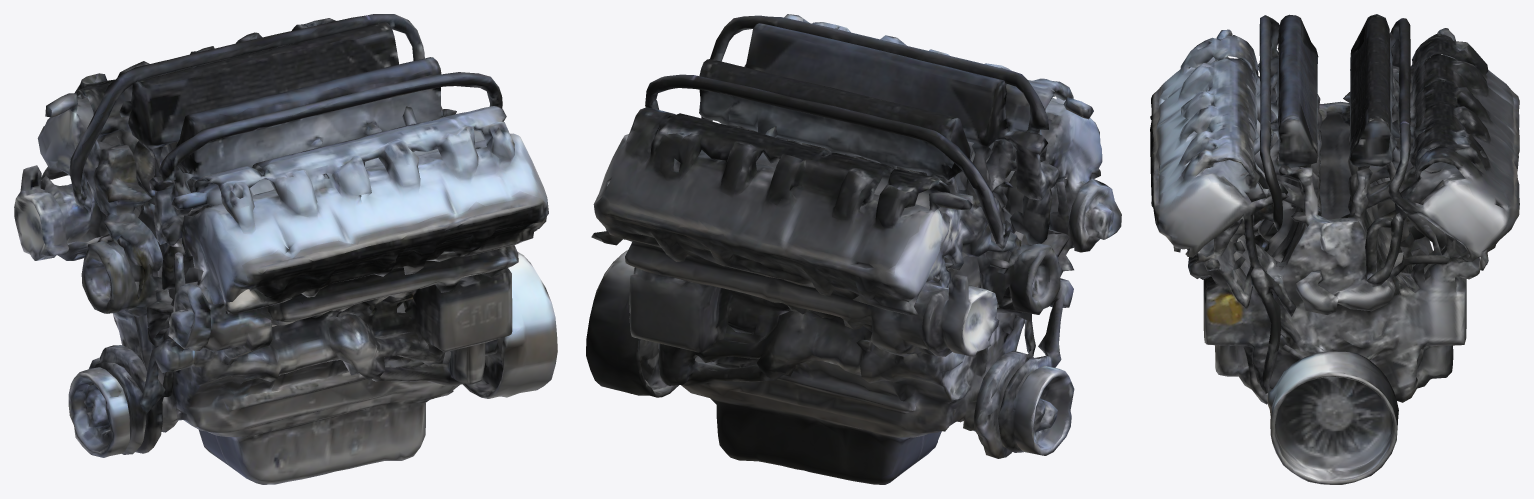
The model's file is refined_crdi engine.glb.
3 renders of one model, left to right at view 1: azimuth 30°, elevation 25°; view 2: azimuth 150°, elevation 25°; view 3: azimuth 270°, elevation 25°, orthographic. The views are drawn at different scales.
Bounding box in the file's own units: 2.01 × 1.75 × 1.71.
1 material, 1 textured.
